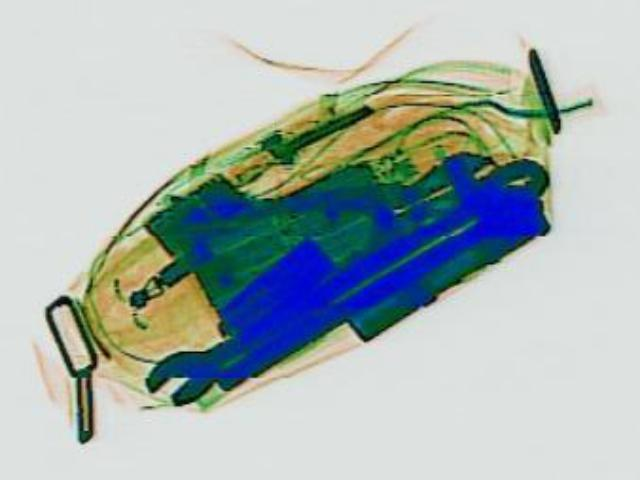Wrench: (127, 145, 558, 409)
